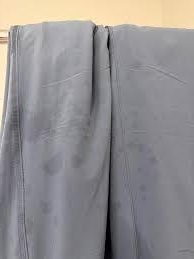oil: (114, 142, 159, 163), (36, 149, 65, 178), (136, 179, 155, 205), (35, 195, 56, 215), (130, 162, 150, 178)
